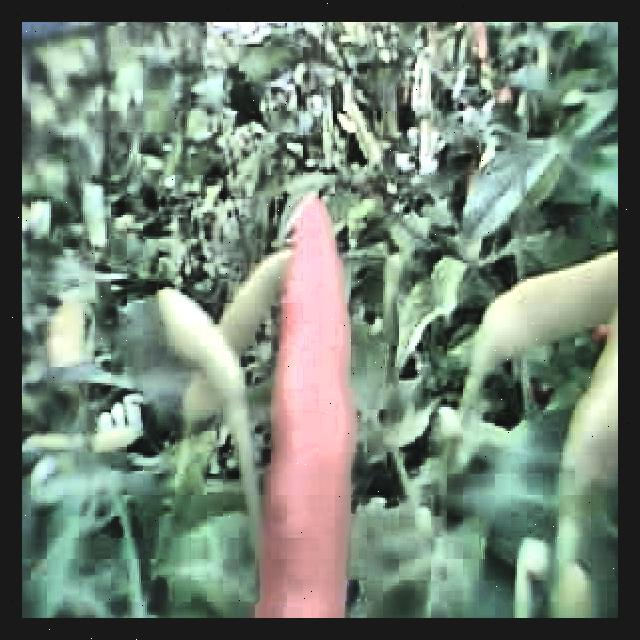Cabai: (262, 194, 352, 618)
